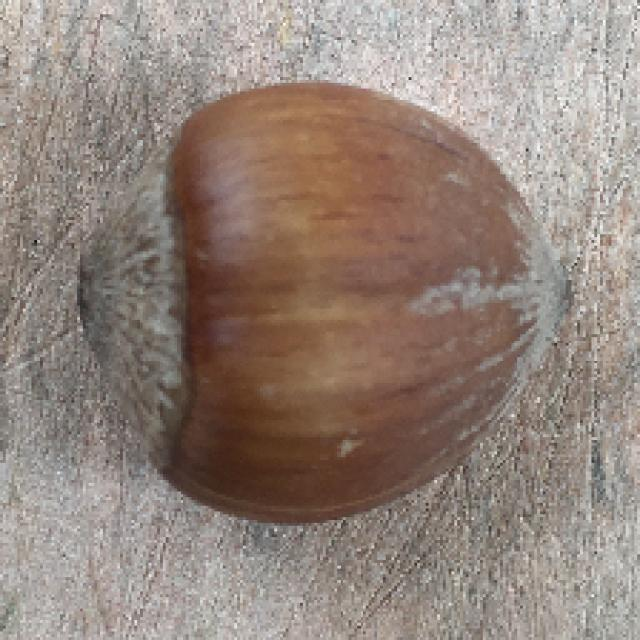qualityHazelnut: (74, 71, 576, 534)
